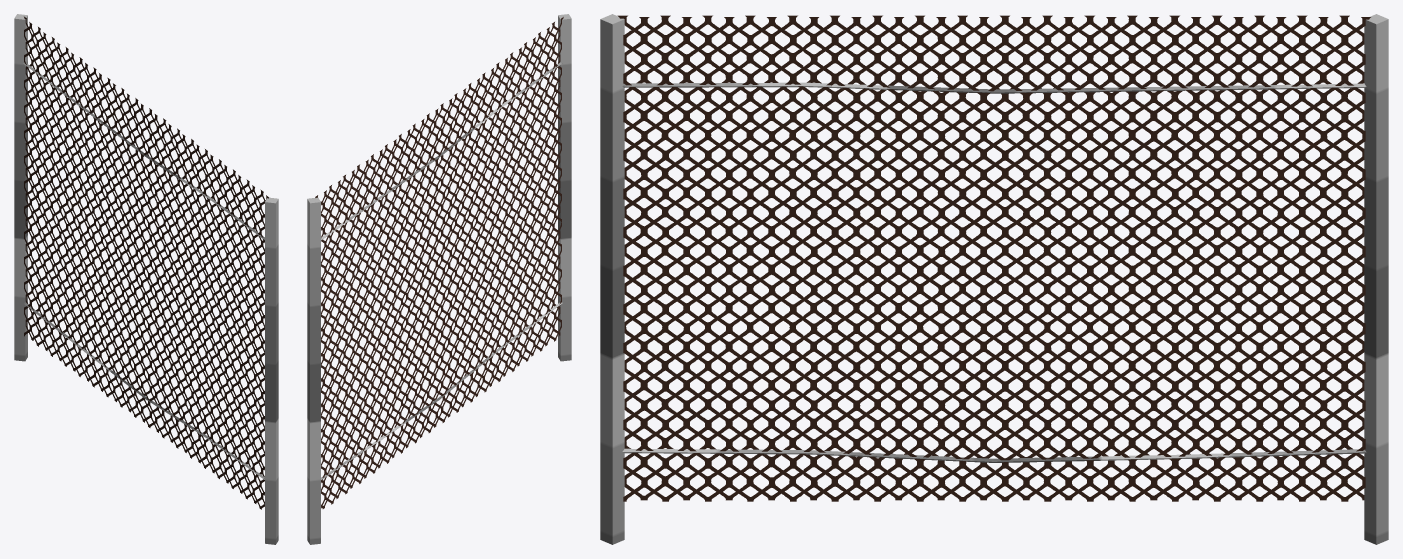
File: bz_fence_wire_01.fbx
3 renders of one model, left to right at view 1: azimuth 30°, elevation 25°; view 2: azimuth 150°, elevation 25°; view 3: azimuth 270°, elevation 25°, orthographic. The views are drawn at different scales.
Visible parts, largest first — view 1: bz_fence_wire_01, bz_fence_frame_01; view 2: bz_fence_wire_01, bz_fence_frame_01; view 3: bz_fence_wire_01, bz_fence_frame_01.
Boxes of the visible parts, box(x1,y1,x2,y2) form: bz_fence_wire_01: box(24, 16, 268, 509); bz_fence_frame_01: box(14, 14, 278, 544); bz_fence_wire_01: box(315, 17, 563, 508); bz_fence_frame_01: box(307, 14, 571, 544); bz_fence_wire_01: box(617, 15, 1370, 501); bz_fence_frame_01: box(600, 14, 1388, 544).
Bounding box in the file's own units: 0.08 × 1.89 × 2.58.
